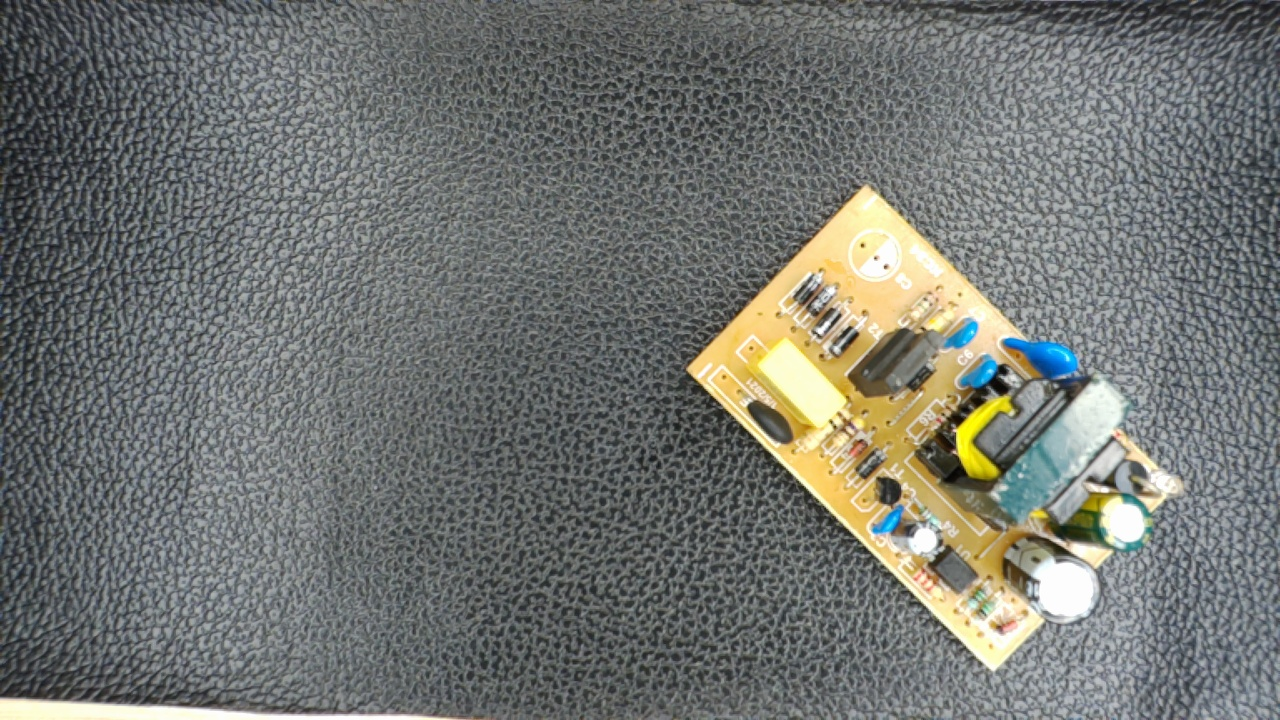fuse: (741, 392, 801, 452)
mov: (998, 332, 1080, 383)
optocoupler: (924, 545, 981, 597)
